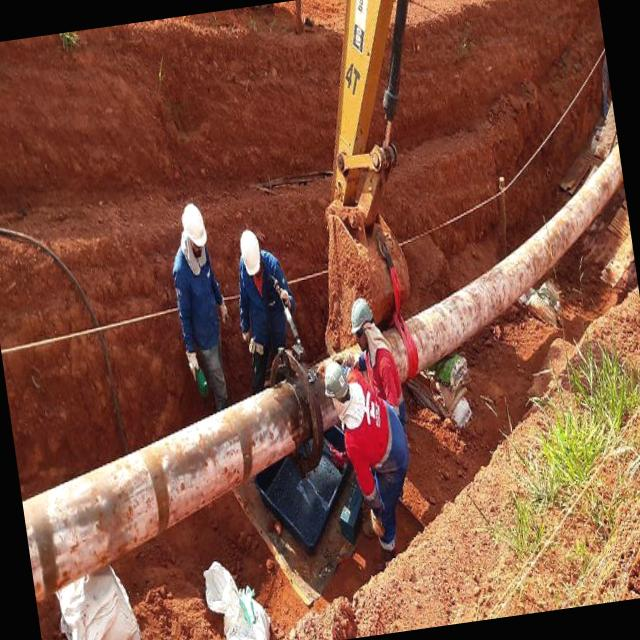gas: (22, 144, 623, 603)
